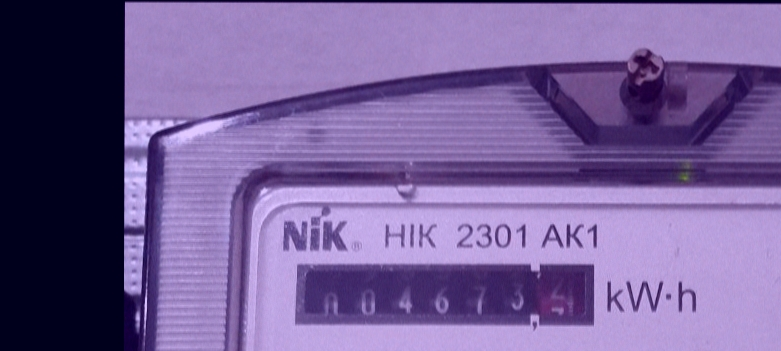0: (319, 289, 339, 319), (357, 287, 375, 318)
2: (546, 271, 566, 303)
3: (507, 280, 524, 314)
4: (395, 283, 413, 318)
6: (429, 283, 450, 317)
7: (467, 283, 489, 320)
screen: (289, 260, 598, 336)
